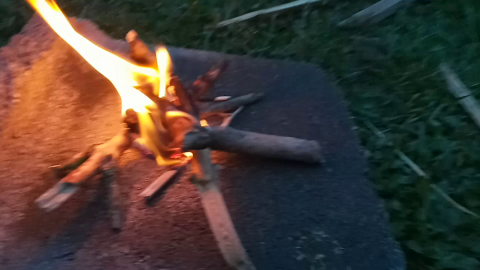fire: (21, 1, 222, 158)
